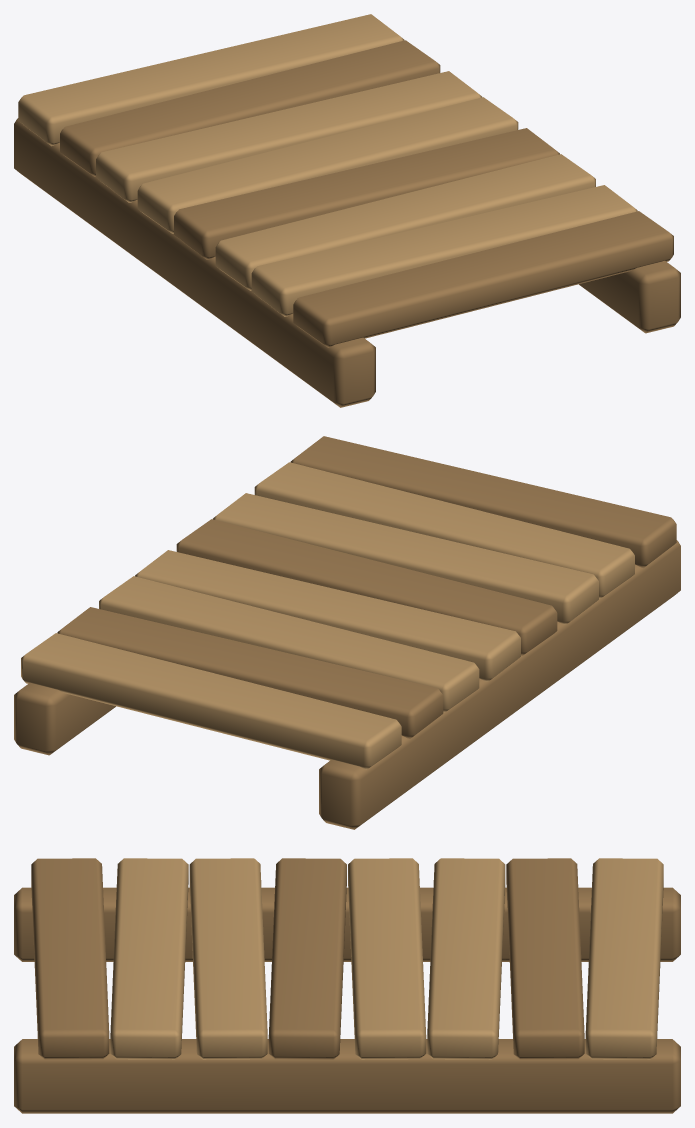
Rendered from prop_bridge_segment.glb.
The picture shows the model from 3 angles, top to bottom: view 1: azimuth 30°, elevation 25°; view 2: azimuth 150°, elevation 25°; view 3: azimuth 270°, elevation 25°; orthographic projection.
Parts seen in each view (by area): view 1: bridge plank, bridge bearer, bridge plank.001, bridge plank.007, bridge plank.005, bridge plank.003, bridge plank.004, bridge plank.002, bridge plank.006, bridge bearer.001; view 2: bridge plank.007, bridge bearer, bridge plank.006, bridge plank, bridge plank.002, bridge plank.004, bridge plank.003, bridge plank.005, bridge plank.001, bridge bearer.001; view 3: bridge bearer.001, bridge plank.001, bridge plank.006, bridge plank.002, bridge plank.005, bridge plank, bridge plank.007, bridge plank.003, bridge plank.004, bridge bearer.
Part boxes in pixels (bbox=[...]): bridge plank: bbox=[293, 211, 673, 347]; bridge bearer: bbox=[14, 118, 375, 407]; bridge plank.001: bbox=[251, 185, 637, 316]; bridge plank.007: bbox=[18, 14, 404, 146]; bridge plank.005: bbox=[96, 71, 481, 202]; bridge plank.003: bbox=[174, 128, 559, 259]; bridge plank.004: bbox=[137, 97, 518, 233]; bridge plank.002: bbox=[215, 154, 595, 290]; bridge plank.006: bbox=[60, 40, 440, 176]; bridge bearer.001: bbox=[579, 260, 680, 333]; bridge plank.007: bbox=[21, 633, 401, 769]; bridge bearer: bbox=[319, 540, 680, 829]; bridge plank.006: bbox=[57, 607, 443, 738]; bridge plank: bbox=[290, 436, 676, 568]; bridge plank.002: bbox=[213, 493, 598, 624]; bridge plank.004: bbox=[135, 550, 520, 681]; bridge plank.003: bbox=[176, 519, 557, 655]; bridge plank.005: bbox=[99, 576, 479, 712]; bridge plank.001: bbox=[254, 462, 634, 598]; bridge bearer.001: bbox=[14, 682, 115, 755]; bridge bearer.001: bbox=[14, 1039, 680, 1113]; bridge plank.001: bbox=[110, 858, 188, 1059]; bridge plank.006: bbox=[506, 858, 584, 1059]; bridge plank.002: bbox=[189, 858, 267, 1059]; bridge plank.005: bbox=[427, 858, 505, 1059]; bridge plank: bbox=[31, 858, 109, 1059]; bridge plank.007: bbox=[585, 858, 663, 1059]; bridge plank.003: bbox=[268, 858, 346, 1059]; bridge plank.004: bbox=[348, 858, 426, 1059]; bridge bearer: bbox=[14, 887, 680, 961].
Bounding box in the file's own units: 1 × 0.23 × 1.6.
